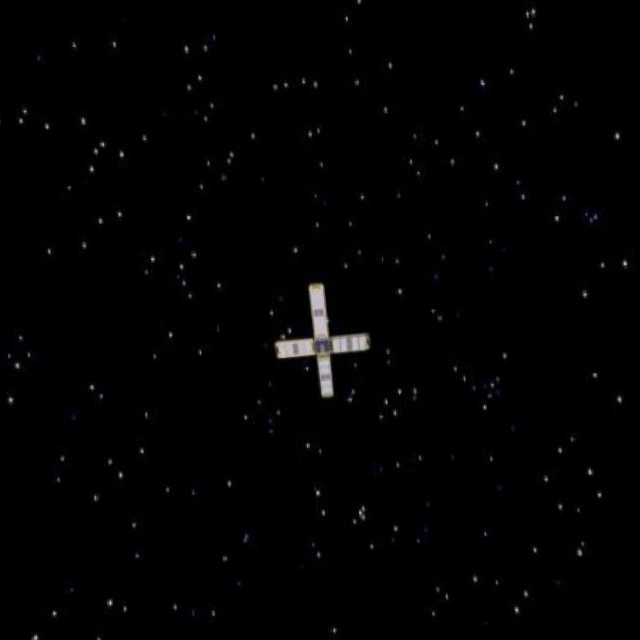medium_debris: (261, 266, 384, 417)
